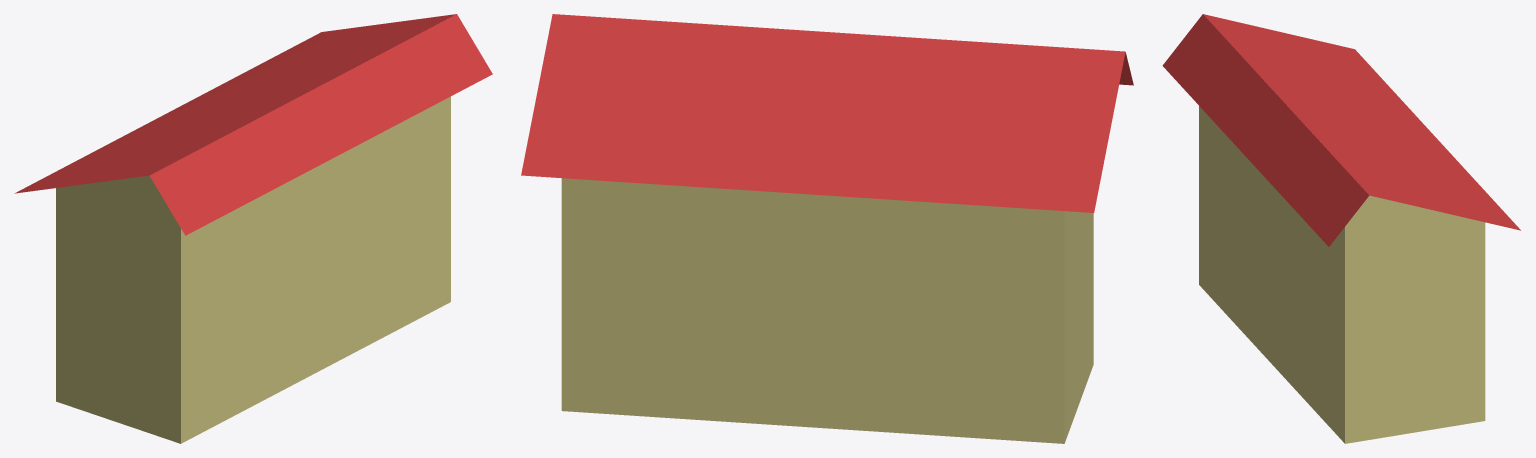
The picture shows the model from 3 angles, left to right: view 1: azimuth 30°, elevation 25°; view 2: azimuth 150°, elevation 25°; view 3: azimuth 270°, elevation 25°; orthographic projection. The views are drawn at different scales.
Size of the model in its own units: 13.44 by 9.57 by 7.56.
